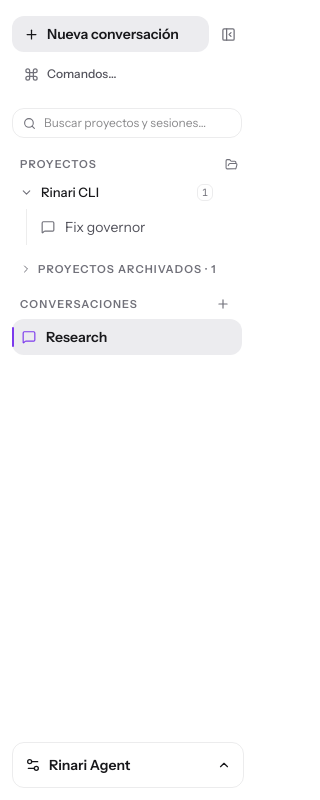
Test: collapses project sessions without opening the project
What coordinates should you click on to do the following:
click the button "Rinari CLI 1"
I would click on:
 (116, 193)
Its box is [12, 179, 221, 206].
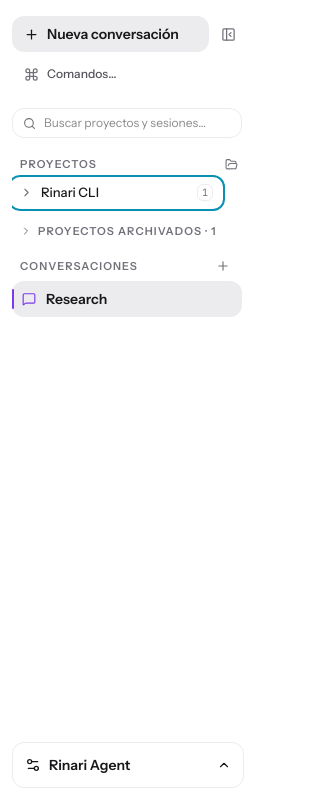
Expected: the text "Research" is shown, [46, 290, 107, 308]
Result: the button "Fix governor" is gone
What coordinates should you click on to do the following:
click the button "Rinari CLI 1"
I would click on:
 (116, 193)
Its box is [12, 179, 221, 206].
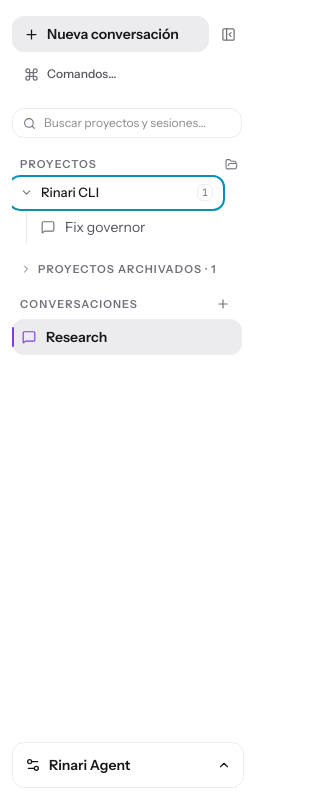
Result: the text "Fix governor" is shown at [65, 218, 145, 236]
